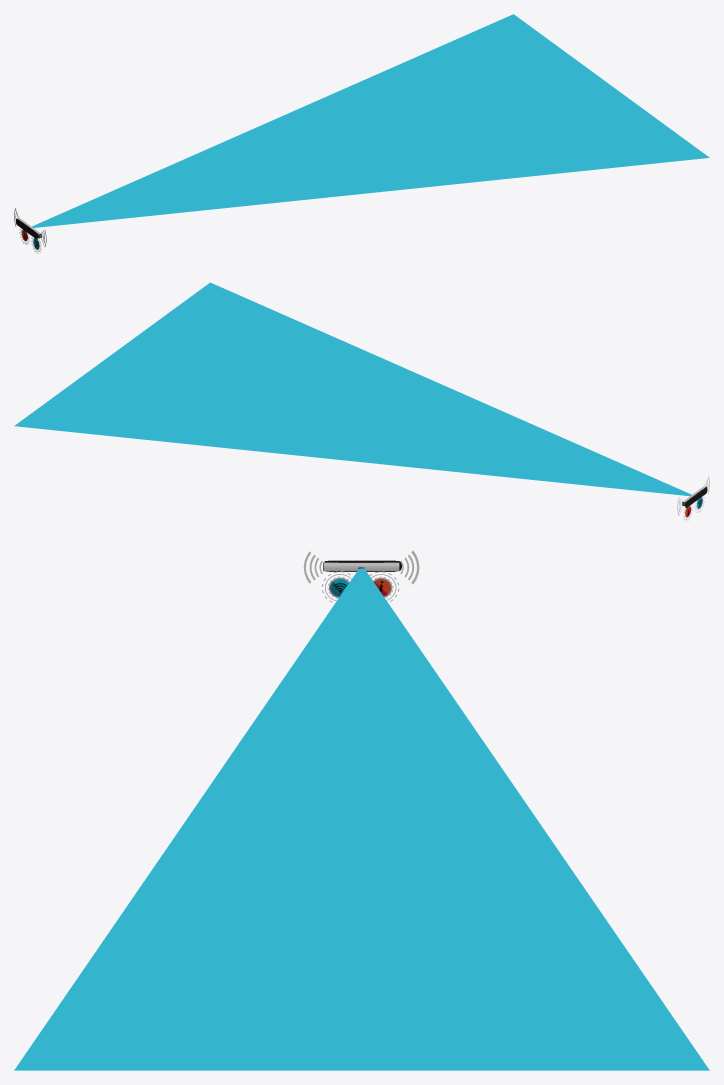
The model's file is LargeProps_Neatbar_Pro.glb.
The picture shows the model from 3 angles, top to bottom: view 1: azimuth 30°, elevation 25°; view 2: azimuth 150°, elevation 25°; view 3: azimuth 270°, elevation 25°; orthographic projection. The views are drawn at different scales.
Parts seen in each view (by area): view 1: Range_Neatbar_Pro; view 2: Range_Neatbar_Pro; view 3: Range_Neatbar_Pro.
Boxes of the visible parts, bbox=[...] form: Range_Neatbar_Pro: bbox=[32, 14, 709, 227]; Range_Neatbar_Pro: bbox=[14, 282, 691, 496]; Range_Neatbar_Pro: bbox=[14, 568, 709, 1070].
Bounding box in the file's own units: 11.97 × 0.5982 × 6.96.
9 materials, 4 textured.
